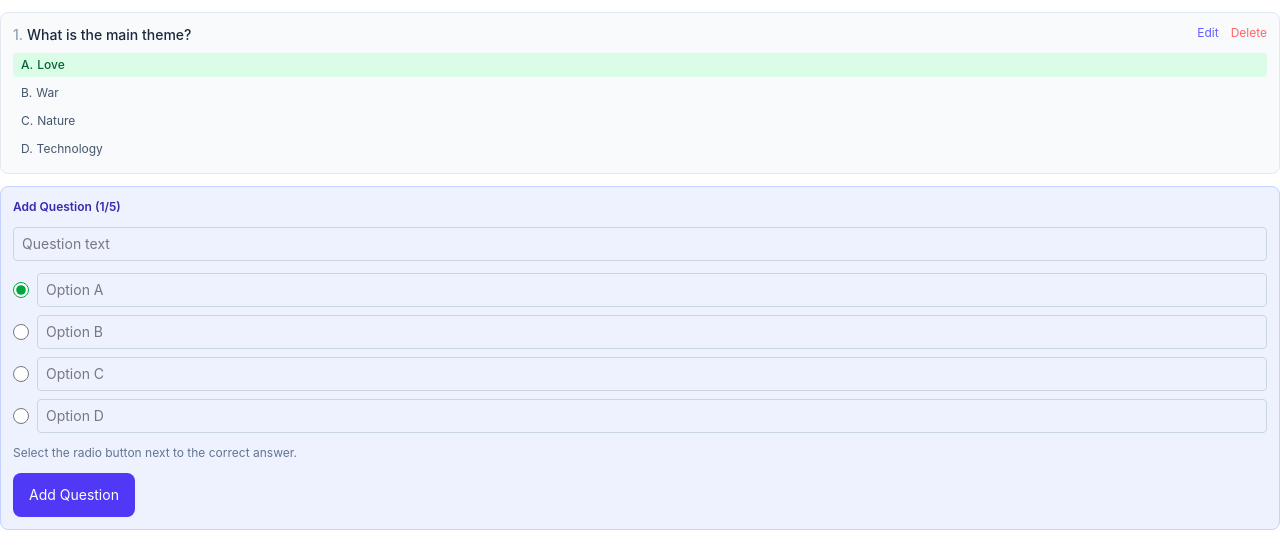
Test: QuestionPanel › clicking Edit pre-fills the form with the question data
Click the button "Edit" at (1208, 33), box left=1197, top=25, right=1219, bottom=41
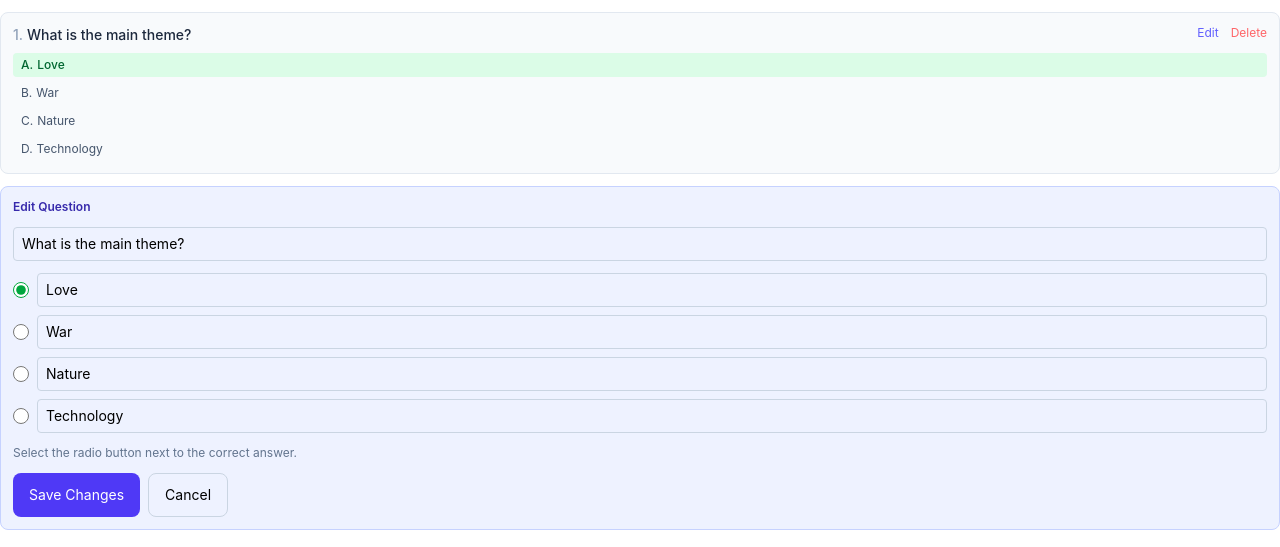
Check: the 1st field with placeholder "Question text" holds "What is the main theme?", box left=13, top=227, right=1267, bottom=261
Check: the 2nd field with placeholder "Option A" holds "Love", box left=37, top=273, right=1267, bottom=307
Check: the 3rd field with placeholder "Option B" holds "War", box left=37, top=315, right=1267, bottom=349
